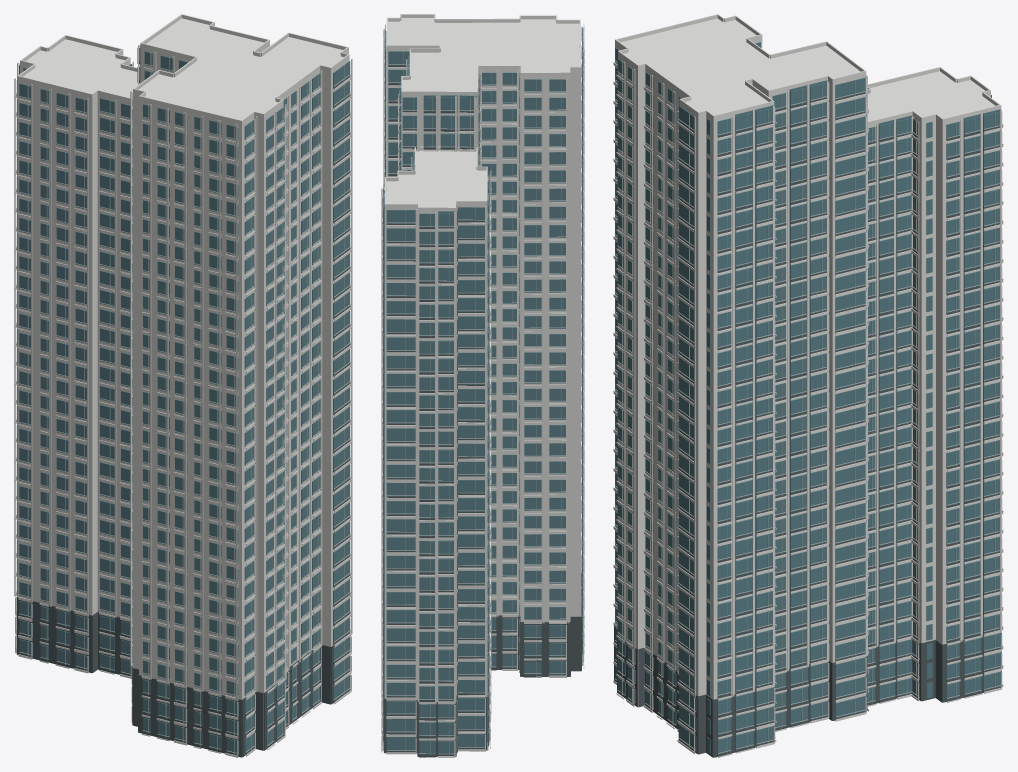
File: bespoke-acro-riverpark-106.glb
3 renders of one model, left to right at view 1: azimuth 30°, elevation 25°; view 2: azimuth 150°, elevation 25°; view 3: azimuth 270°, elevation 25°, orthographic. The views are drawn at different scales.
Visible parts, largest first — view 1: 106_R00_body, 106_R00_glass, 106_R00_frame, 106_R00_dark; view 2: 106_R00_body, 106_R00_glass, 106_R00_frame, 106_R00_dark; view 3: 106_R00_glass, 106_R00_body, 106_R00_dark, 106_R00_frame.
Boxes of the visible parts, box(x1,y1,x2,y2) form: 106_R00_body: box(14, 14, 352, 757); 106_R00_glass: box(17, 46, 349, 754); 106_R00_frame: box(16, 52, 350, 754); 106_R00_dark: box(16, 62, 350, 757); 106_R00_body: box(381, 14, 584, 757); 106_R00_glass: box(383, 24, 582, 754); 106_R00_frame: box(382, 28, 583, 755); 106_R00_dark: box(382, 63, 581, 756); 106_R00_glass: box(615, 42, 1000, 753); 106_R00_body: box(613, 14, 1003, 757); 106_R00_dark: box(614, 92, 1001, 757); 106_R00_frame: box(614, 60, 1000, 753).
Bounding box in the file's own units: 41.85 × 115 × 63.42.
